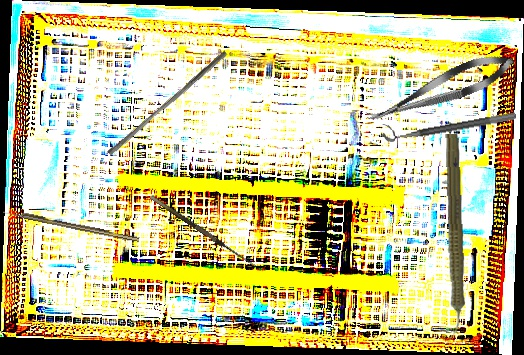Fixation Ring: (379, 101, 517, 144)
Handpiece: (437, 133, 470, 344)
Hook Surgical: (149, 189, 262, 270), (2, 208, 140, 243)
Micro Scissor: (361, 45, 520, 134)
Pusher: (106, 45, 229, 161)
